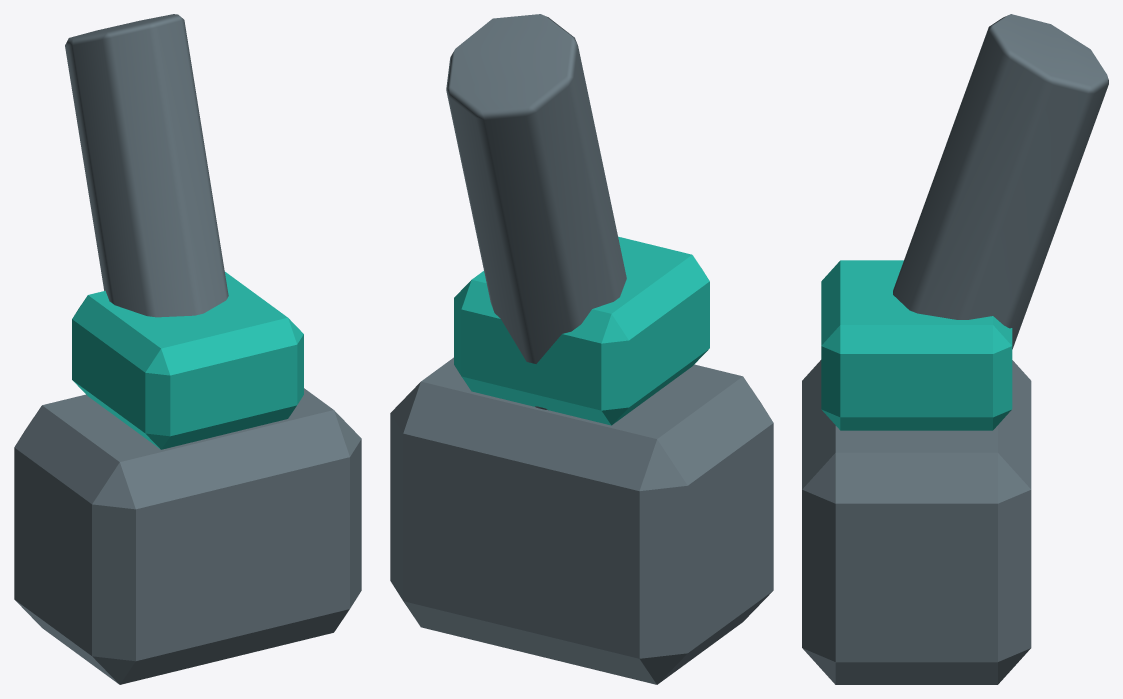
Rendered from SM_Ember_LegR.fbx.
3 renders of one model, left to right at view 1: azimuth 30°, elevation 25°; view 2: azimuth 150°, elevation 25°; view 3: azimuth 270°, elevation 25°, orthographic. The views are drawn at different scales.
Parts seen in each view (by area): view 1: SM_Ember_LegR; view 2: SM_Ember_LegR; view 3: SM_Ember_LegR.
Boxes of the visible parts, <box> form: SM_Ember_LegR: <box>14,14,361,684</box>; SM_Ember_LegR: <box>390,14,773,684</box>; SM_Ember_LegR: <box>802,14,1108,684</box>.
Size of the model in its own units: 10.49 by 9.91 by 21.6.
